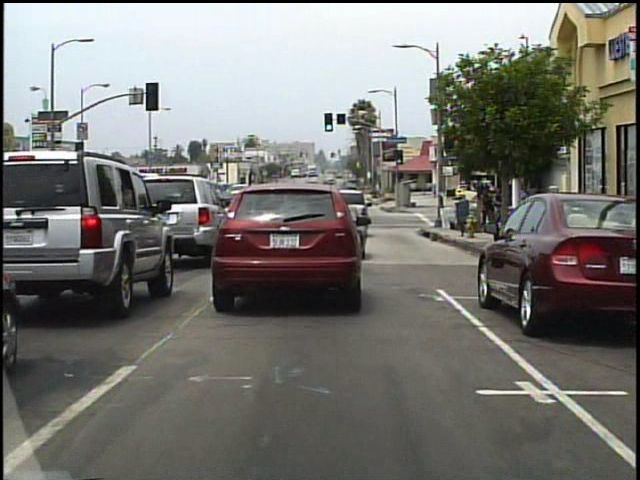person: (480, 187, 496, 225)
